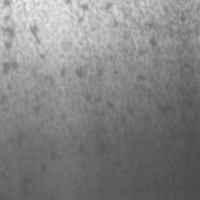pitted_surface: (25, 0, 194, 171), (0, 0, 82, 187)
